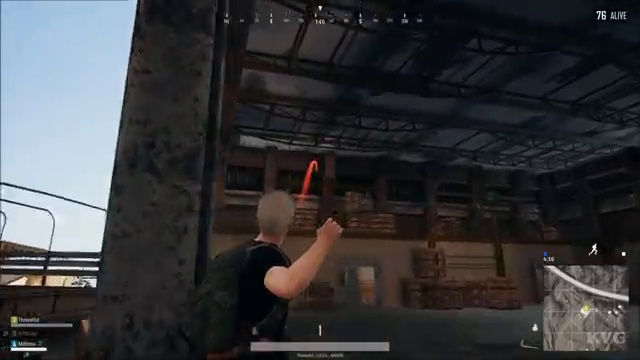Player: (164, 189, 372, 312)
